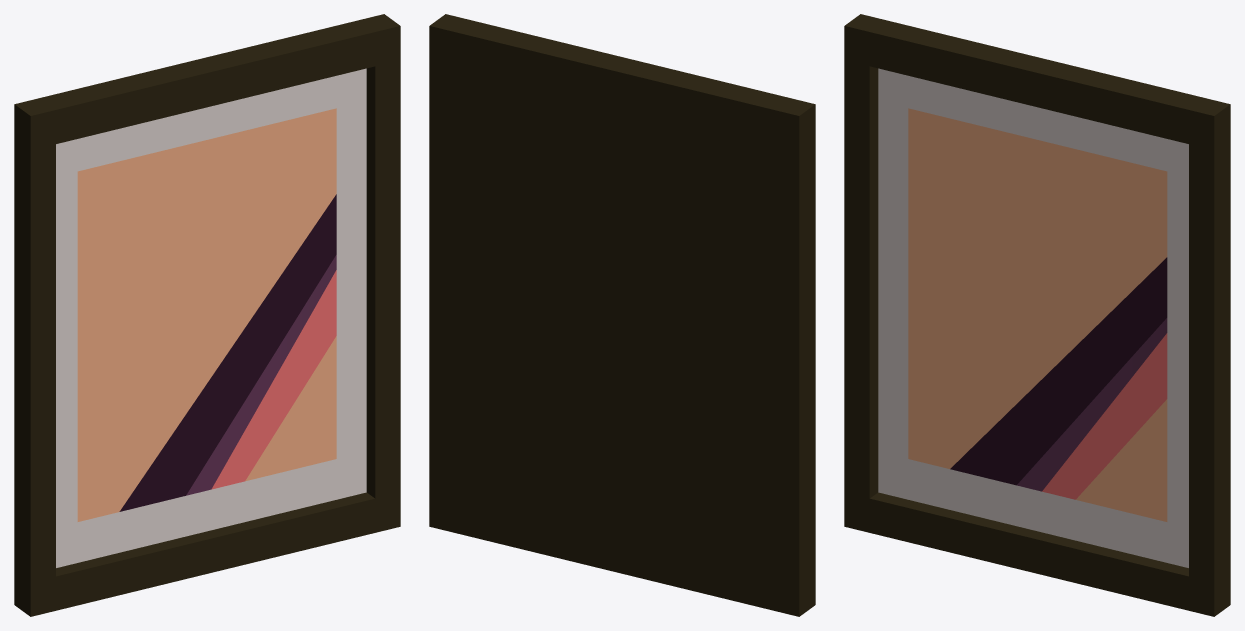
File: Prop_Paint_05.fbx
3 views of the same model, side by side, from view 1: azimuth 30°, elevation 25°; view 2: azimuth 150°, elevation 25°; view 3: azimuth 330°, elevation 25° (orthographic).
Parts seen in each view (by area): view 1: Prop_Paint_05; view 2: Prop_Paint_05; view 3: Prop_Paint_05.
Part boxes in pixels (x1,y1,x2,y2): Prop_Paint_05: [14, 14, 400, 616]; Prop_Paint_05: [429, 14, 815, 616]; Prop_Paint_05: [844, 14, 1230, 616].
Bounding box in the file's own units: 35.58 × 46.05 × 2.7.
